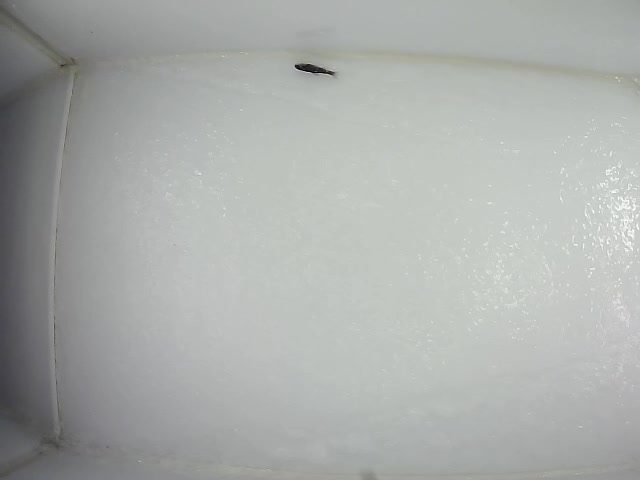fish: (294, 63, 338, 77)
